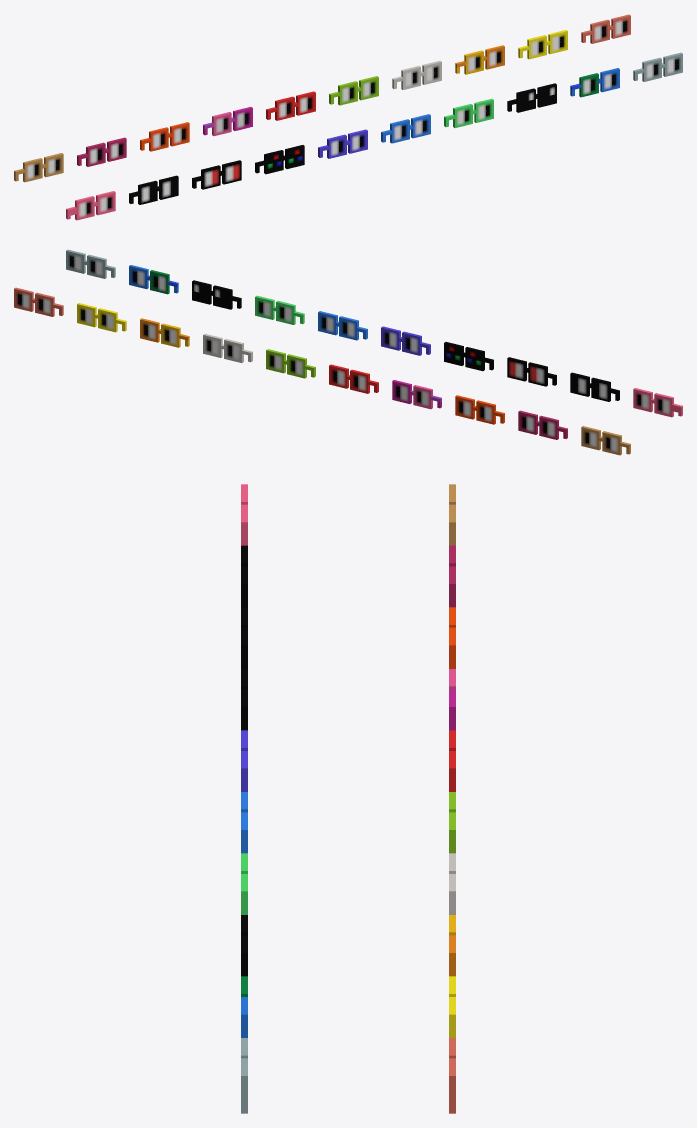
File: GlassesOBJ.obj
The picture shows the model from 3 angles, top to bottom: view 1: azimuth 30°, elevation 25°; view 2: azimuth 150°, elevation 25°; view 3: azimuth 270°, elevation 25°; orthographic projection. The views are drawn at different scales.
Parts seen in each view (by area): view 1: glasses-hip-rose, glasses-square-black-eyes-red, Oren_1134, glasses-square-orange, glasses-square-honey, glasses-square-fullblack, glasses-square-black-rgb, Oren_1269, glasses-square-blue, Oren_1260, Oren_1261, Oren_1264 (+8 smaller); view 2: glasses-hip-rose, glasses-square-orange, Oren_1261, Oren_1264, glasses-square-black-eyes-red, glasses-square-honey, Union_34_part_4, Oren_1268, Oren_1134, glasses-square-blue, Oren_1260, glasses-square-frog-green (+8 smaller); view 3: no part large enough to name.
Part boxes in pixels (x1,y1,x2,y2): glasses-hip-rose: (66,191,115,220); glasses-square-black-eyes-red: (192,160,241,189); Oren_1134: (570,68,619,97); glasses-square-orange: (140,122,189,151); glasses-square-honey: (14,153,63,182); glasses-square-fullblack: (507,83,556,112); glasses-square-black-rgb: (255,145,304,174); Oren_1269: (329,76,378,105); glasses-square-blue: (318,129,367,158); Oren_1260: (266,91,315,120); Oren_1261: (381,114,430,143); Oren_1264: (518,30,567,59); glasses-hip-rose: (633,388,682,417); glasses-square-orange: (455,395,504,424); Oren_1261: (318,311,367,340); Oren_1264: (77,303,126,332); glasses-square-black-eyes-red: (507,357,556,386); glasses-square-honey: (581,426,630,455); Union_34_part_4: (140,318,189,347); Oren_1268: (392,380,441,409); Oren_1134: (129,265,178,294); glasses-square-blue: (381,326,430,355); Oren_1260: (329,364,378,393); glasses-square-frog-green: (255,295,304,324).
Size of the model in its own units: 205 by 6 by 31.
Materials: 1 (1 with a texture image).
